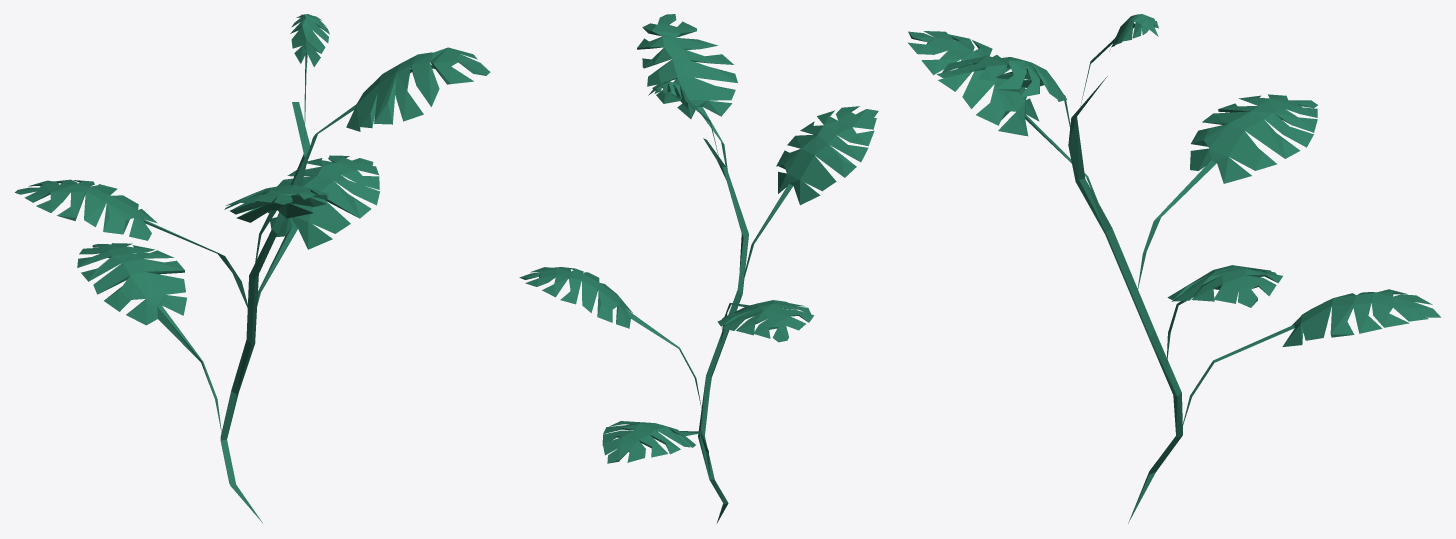
Rendered from monstera.fbx.
3 views of the same model, side by side, from view 1: azimuth 30°, elevation 25°; view 2: azimuth 150°, elevation 25°; view 3: azimuth 270°, elevation 25° (orthographic). The views are drawn at different scales.
Parts seen in each view (by area): view 1: monstera; view 2: monstera; view 3: monstera.
Part boxes in pixels (x1,y1,x2,y2): monstera: (15,14,490,522); monstera: (519,14,878,523); monstera: (908,14,1440,523).
Size of the model in its own units: 99.94 by 142 by 128.
